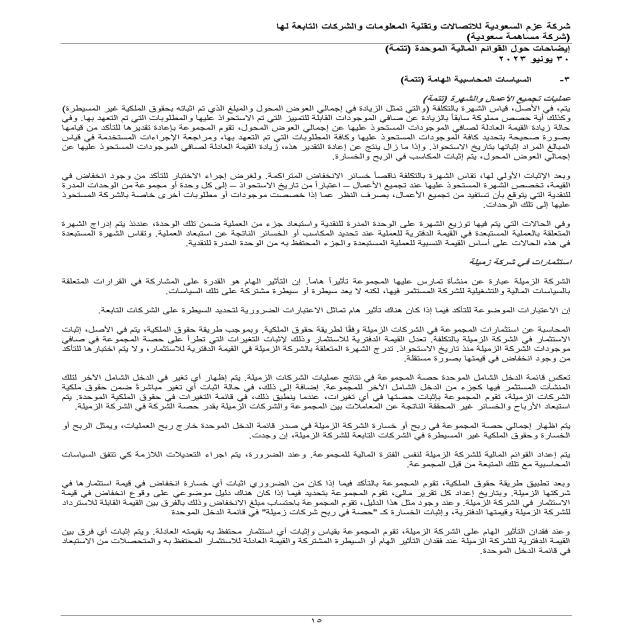notes: (381, 44, 572, 54)
text: (49, 65, 574, 572)
